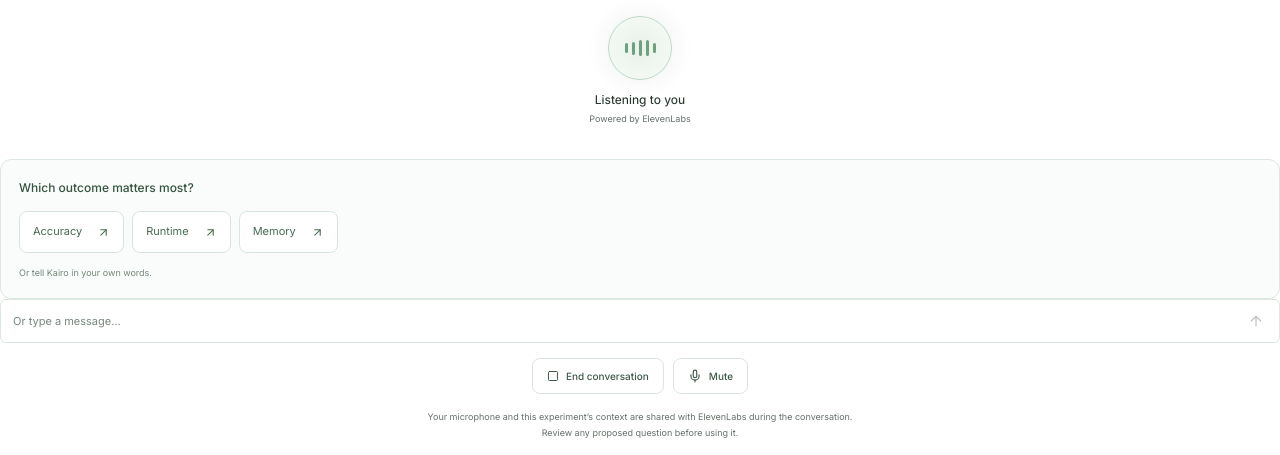
Test: ElevenLabs research conversations › lets the voice agent ask a question and sends a selected answer back once
The width and height of the screenshot is (1280, 455).
Click the button "Runtime": (181, 232) [132, 211, 231, 253]
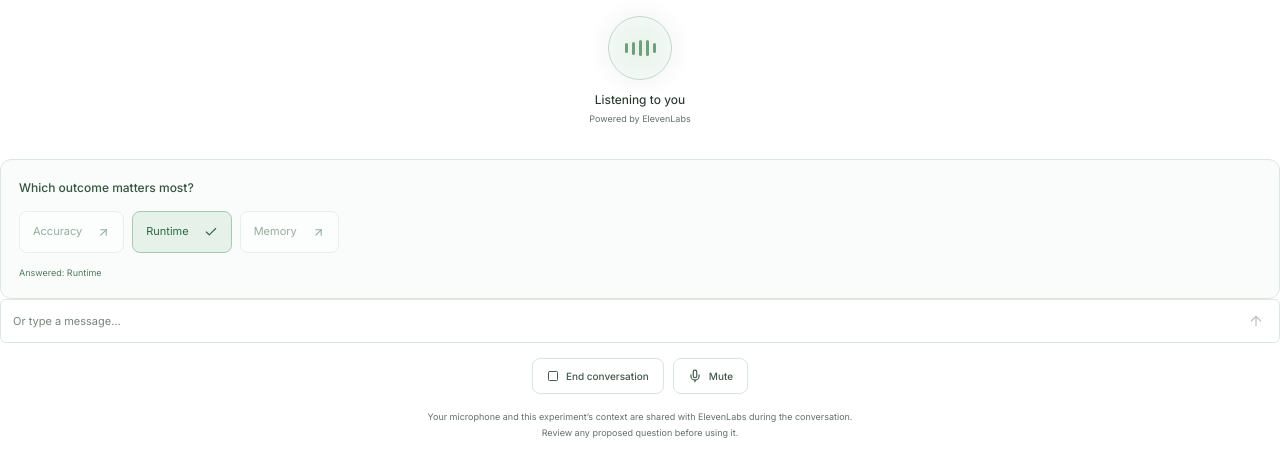
Now the button "Runtime" is disabled, box [132, 211, 232, 253]
